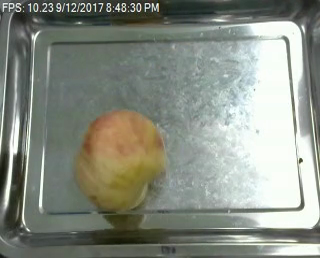Peach: (75, 109, 166, 211)
